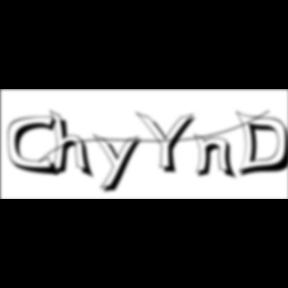C: (8, 115, 62, 178)
Y: (135, 110, 202, 176)
h: (50, 108, 97, 182)
n: (194, 132, 240, 181)
y: (93, 132, 147, 196)
